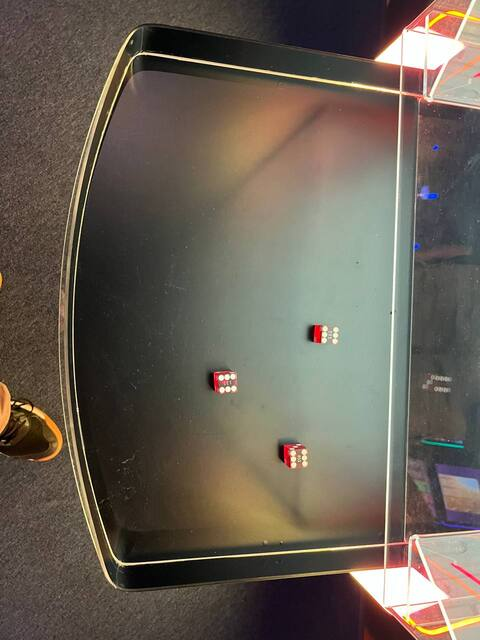six: (213, 368, 240, 399), (284, 445, 313, 473), (316, 322, 342, 349)
